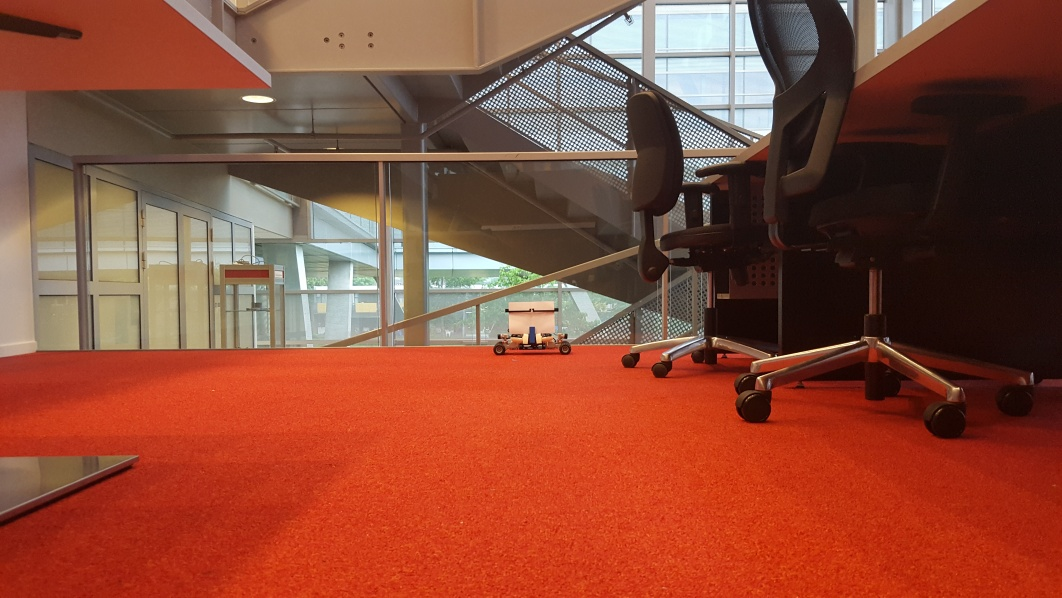car: (491, 300, 572, 357)
